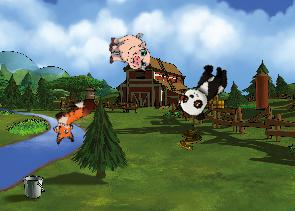fox: (44, 95, 105, 148)
panda: (174, 57, 233, 124)
pig: (108, 33, 150, 71)
